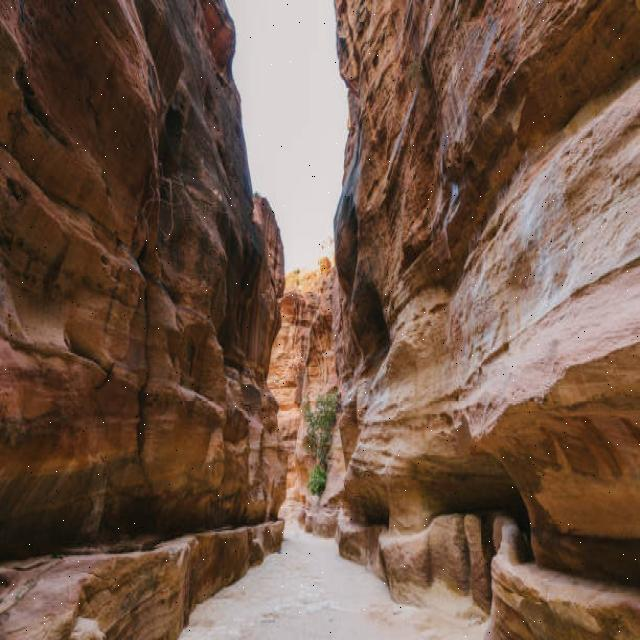Sedimentary: (324, 1, 638, 638), (2, 1, 285, 640)
